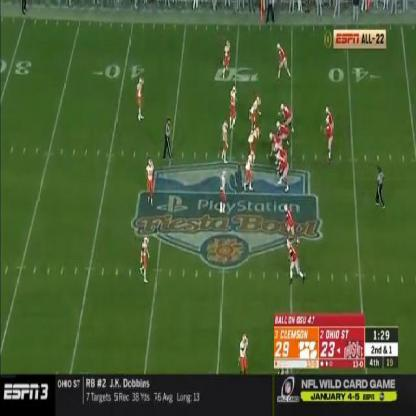CENTER: (269, 131, 278, 158)
DB: (138, 237, 149, 281), (144, 158, 154, 202), (134, 78, 143, 118), (238, 338, 249, 365), (223, 40, 230, 81)
LB: (219, 172, 228, 213), (220, 122, 228, 162), (228, 87, 237, 121)
QB: (326, 121, 334, 154)
SKILL: (277, 42, 290, 82), (287, 240, 299, 281), (285, 206, 298, 238), (325, 104, 331, 117)
